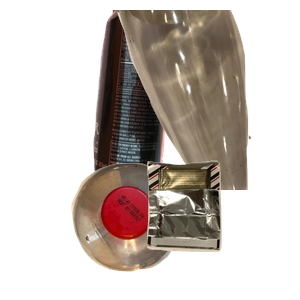glass: (115, 10, 300, 190)
metal: (91, 10, 258, 188)
plastic: (69, 161, 245, 300)
trash: (144, 158, 300, 300)
